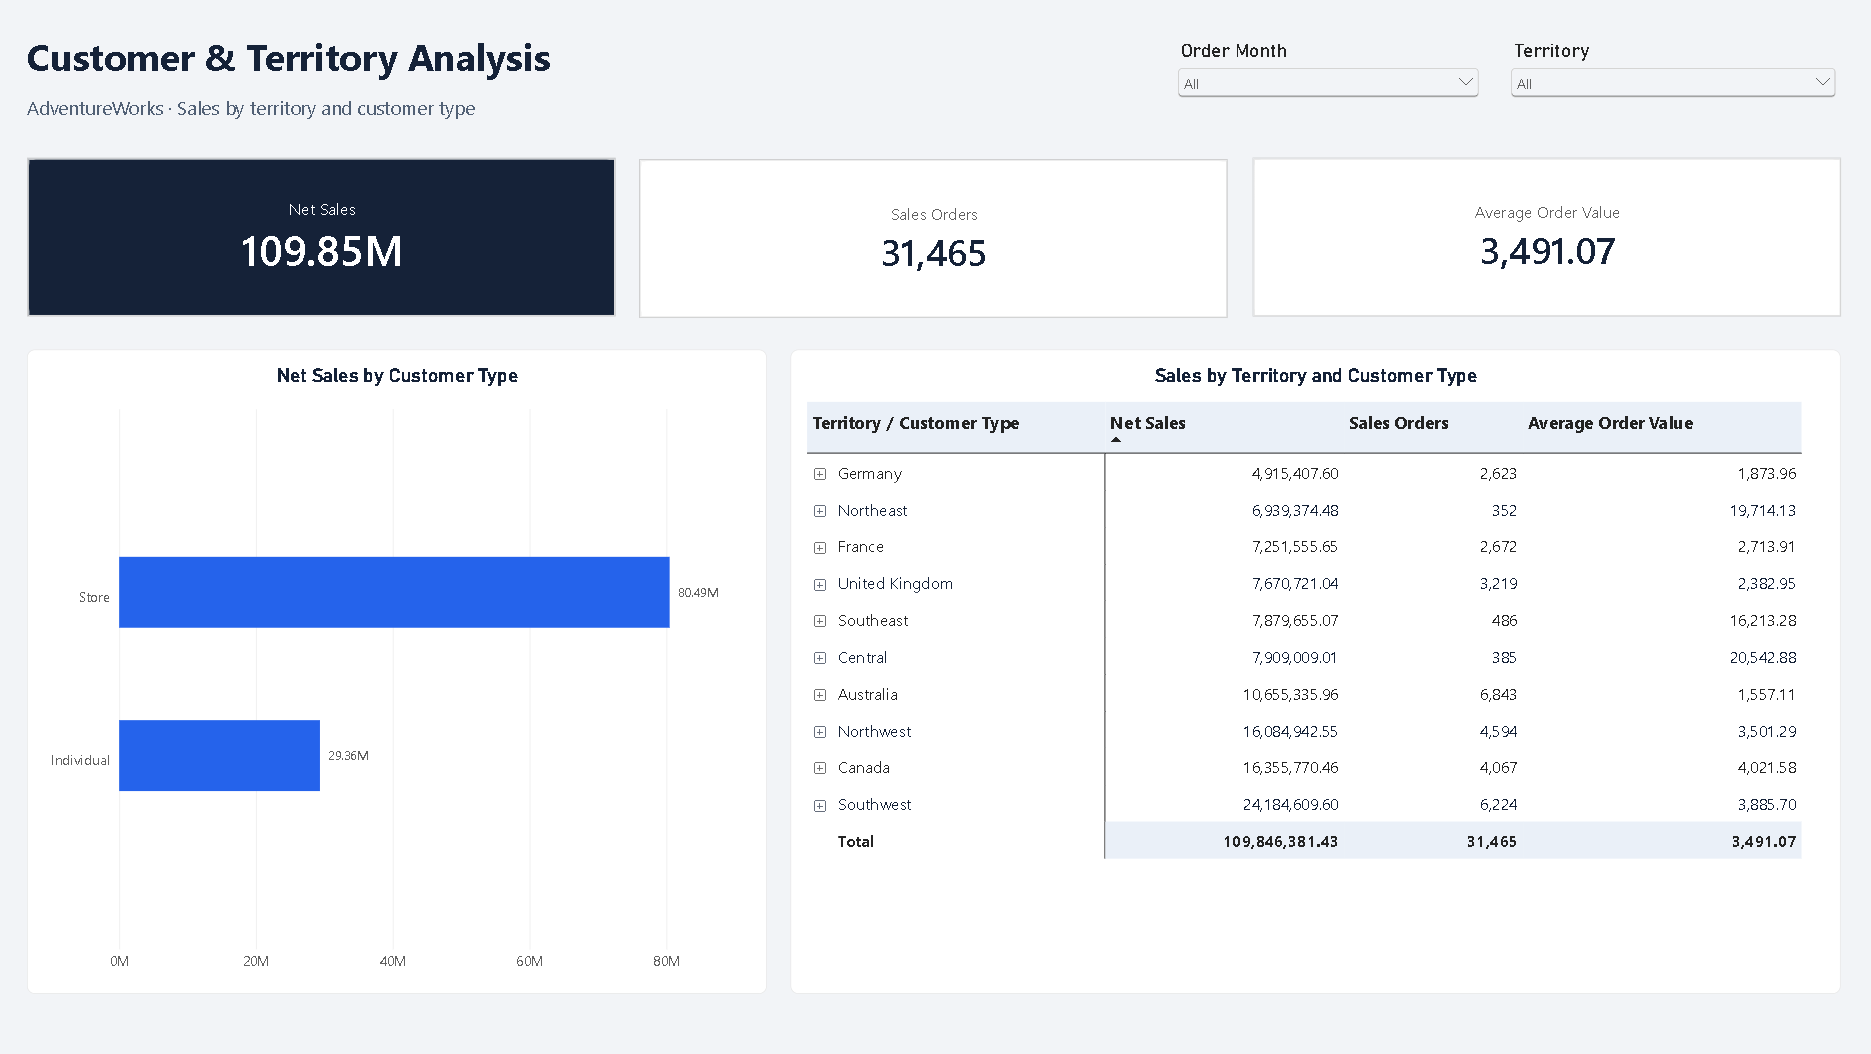

This screenshot's page, from the dashboard's own definition file:
{"tool":"powerbi","page":{"name":"Customer & Territory Analysis","canvas":[1920,1080],"ordinal":3},"visuals":[{"type":"cardVisual","fields":{"Data":["_Measures.Net Sales"]},"box":[48,168,592,160],"z":0},{"type":"cardVisual","fields":{"Data":["_Measures.Average Order Value"]},"box":[1280,168,592,160],"z":1},{"type":"cardVisual","fields":{"Data":["_Measures.Sales Orders"]},"box":[664,168.6,592,160],"z":2},{"type":"slicer","fields":{"Values":["DimDate.YearMonth"]},"box":[1200,48,312,88],"z":3},{"type":"slicer","fields":{"Values":["DimTerritory.TerritoryName"]},"box":[1536,48,336,88],"z":4},{"type":"clusteredBarChart","title":"Net Sales by Customer Type","fields":{"Category":["DimCustomer.CustomerType"],"Y":["_Measures.Net Sales"]},"box":[48,360,744,648],"z":5},{"type":"pivotTable","title":"Sales by Territory and Customer Type","fields":{"Rows":["DimTerritory.TerritoryName","DimCustomer.CustomerType"],"Values":["_Measures.Net Sales","_Measures.Sales Orders","_Measures.Average Order Value"]},"box":[816,360,1056,648],"z":6},{"type":"textbox","box":[48,40,1100,60],"z":7},{"type":"textbox","box":[48,104,1100,36],"z":8}]}

Visuals, with their boxes in screenshot pixels (x1, y1, x2, y2), scaled from the page's 1920x1080 canvas onto the 1871x1054 screenshot:
cardVisual - _Measures.Net Sales: [left=47, top=164, right=624, bottom=320]
cardVisual - _Measures.Average Order Value: [left=1247, top=164, right=1824, bottom=320]
cardVisual - _Measures.Sales Orders: [left=647, top=165, right=1224, bottom=321]
slicer - DimDate.YearMonth: [left=1169, top=47, right=1473, bottom=133]
slicer - DimTerritory.TerritoryName: [left=1497, top=47, right=1824, bottom=133]
"Net Sales by Customer Type" clusteredBarChart: [left=47, top=351, right=772, bottom=984]
"Sales by Territory and Customer Type" pivotTable: [left=795, top=351, right=1824, bottom=984]
textbox: [left=47, top=39, right=1119, bottom=98]
textbox: [left=47, top=101, right=1119, bottom=137]
